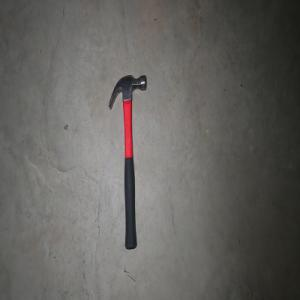Hammer: (107, 74, 146, 250)
